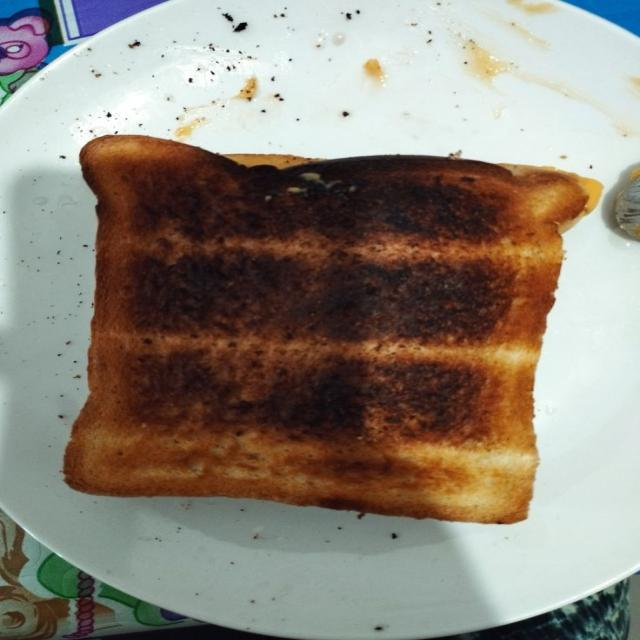toast bread: (65, 136, 586, 522)
